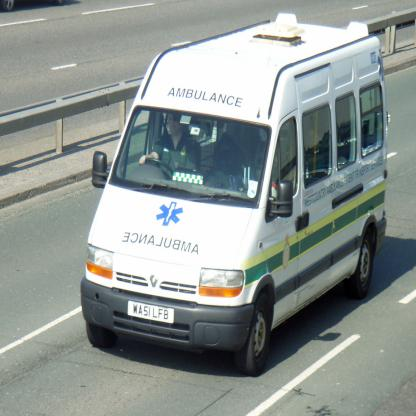Ambulance: (79, 12, 388, 375)
